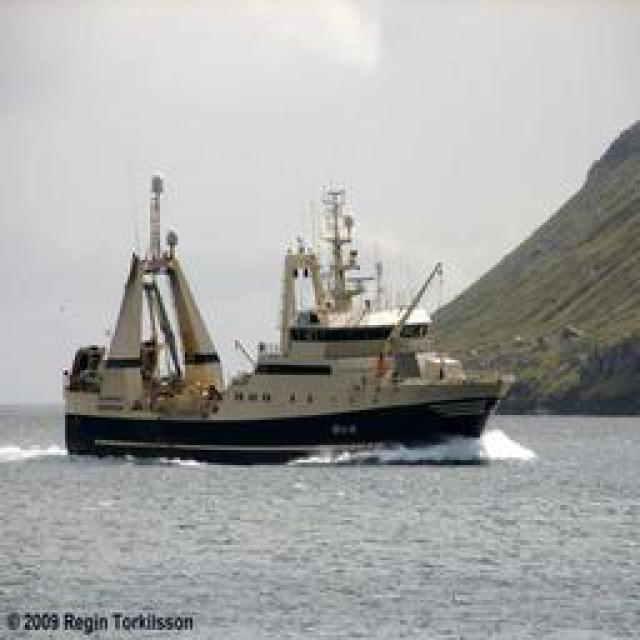Ship: (55, 160, 518, 463)
